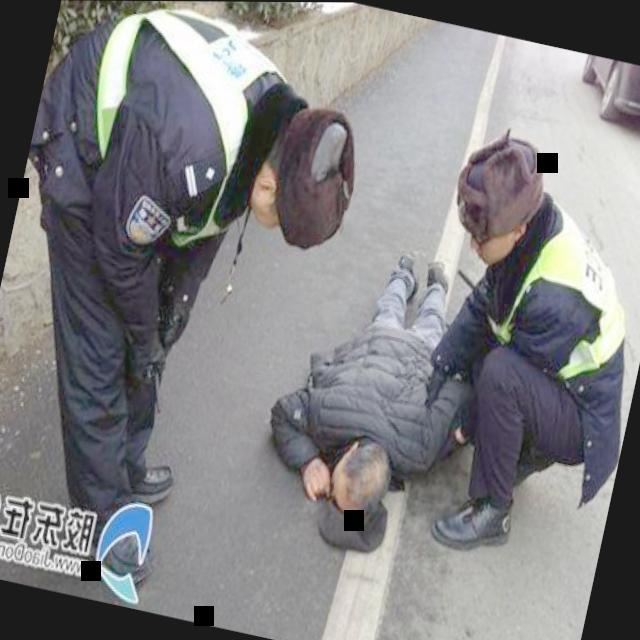Fall-Detected: (248, 216, 506, 566)
